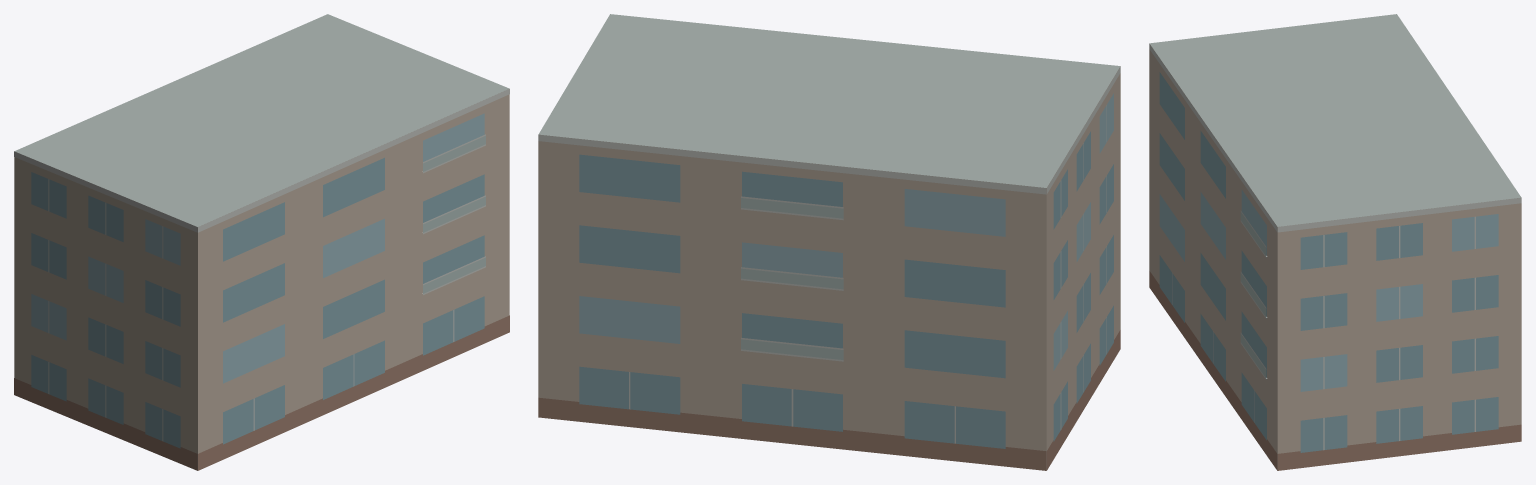
File: survey-upis-32524205.glb
3 views of the same model, side by side, from view 1: azimuth 30°, elevation 25°; view 2: azimuth 150°, elevation 25°; view 3: azimuth 270°, elevation 25° (orthographic). The views are drawn at different scales.
Parts seen in each view (by area): view 1: survey-upis-32524205.tmp; view 2: survey-upis-32524205.tmp; view 3: survey-upis-32524205.tmp.
Boxes of the visible parts, x1=… form: survey-upis-32524205.tmp: x1=14, y1=14, x2=509, y2=470; survey-upis-32524205.tmp: x1=538, y1=14, x2=1120, y2=470; survey-upis-32524205.tmp: x1=1149, y1=14, x2=1521, y2=470.
Bounding box in the file's own units: 19.85 × 10.6 × 14.67.
